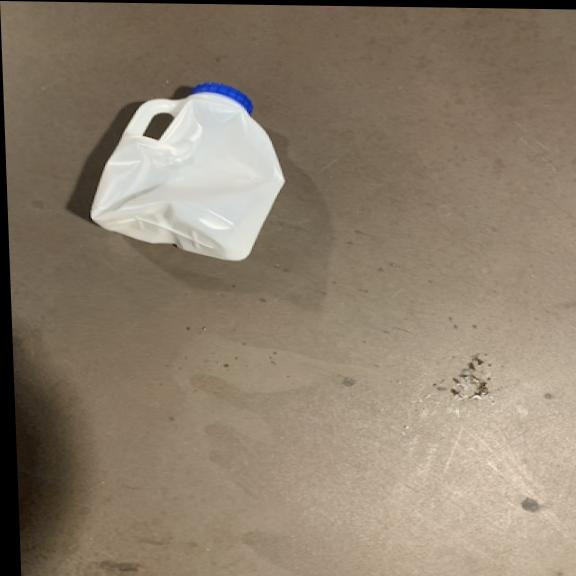Plastik: (82, 79, 296, 263)
